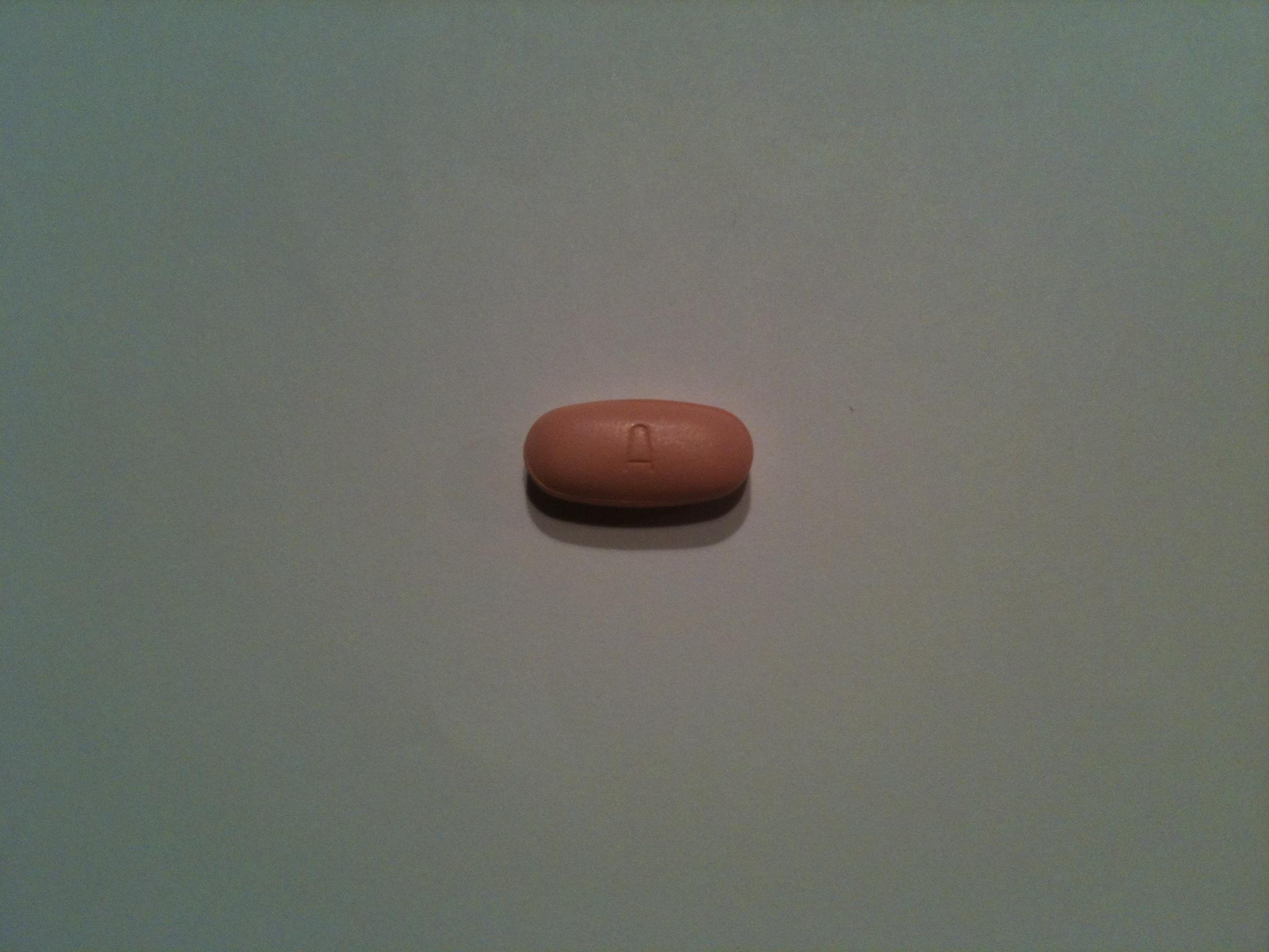Pill: (516, 394, 759, 518)
